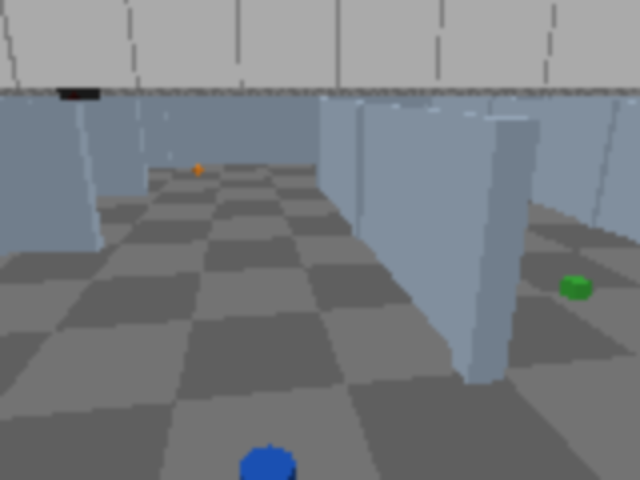puck: (240, 446, 295, 478), (559, 274, 593, 302)
